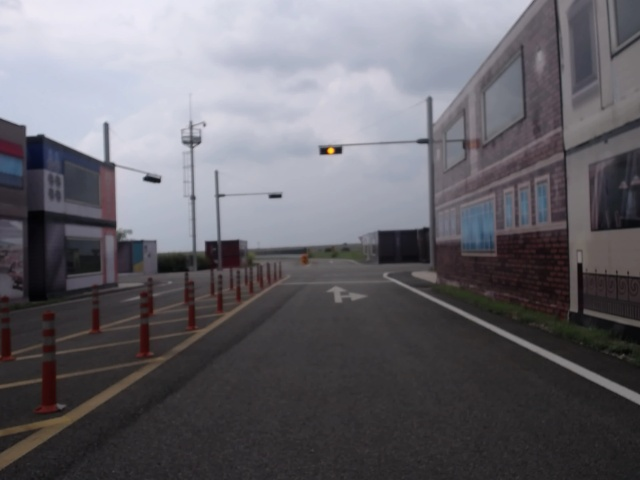orange_3: (319, 145, 343, 154)
